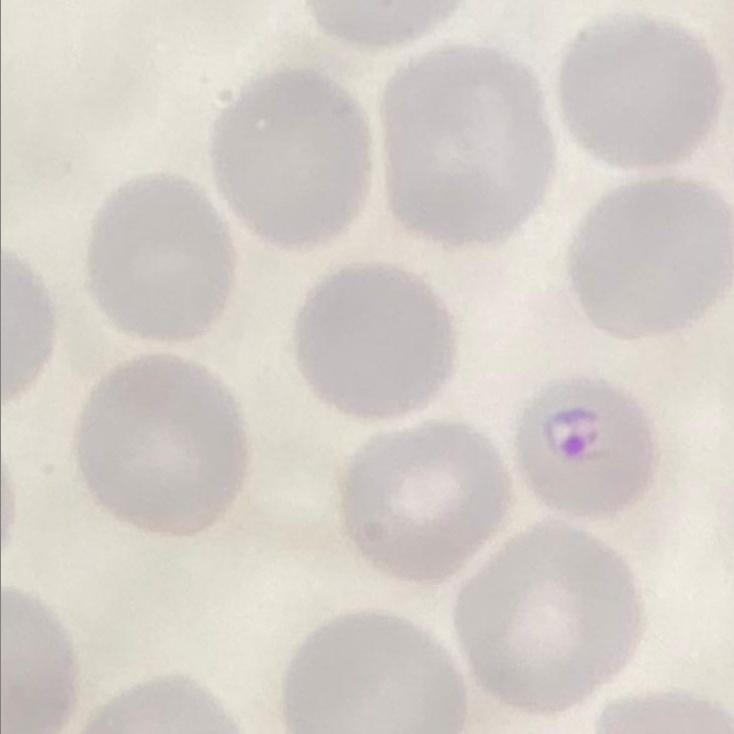Infected: (512, 371, 653, 522)
Uninfected: (382, 37, 553, 238), (456, 529, 642, 711), (74, 357, 245, 534), (208, 75, 370, 249), (564, 181, 734, 338), (294, 263, 457, 426), (556, 13, 726, 166), (346, 423, 505, 581), (86, 175, 239, 338), (278, 609, 462, 734)
